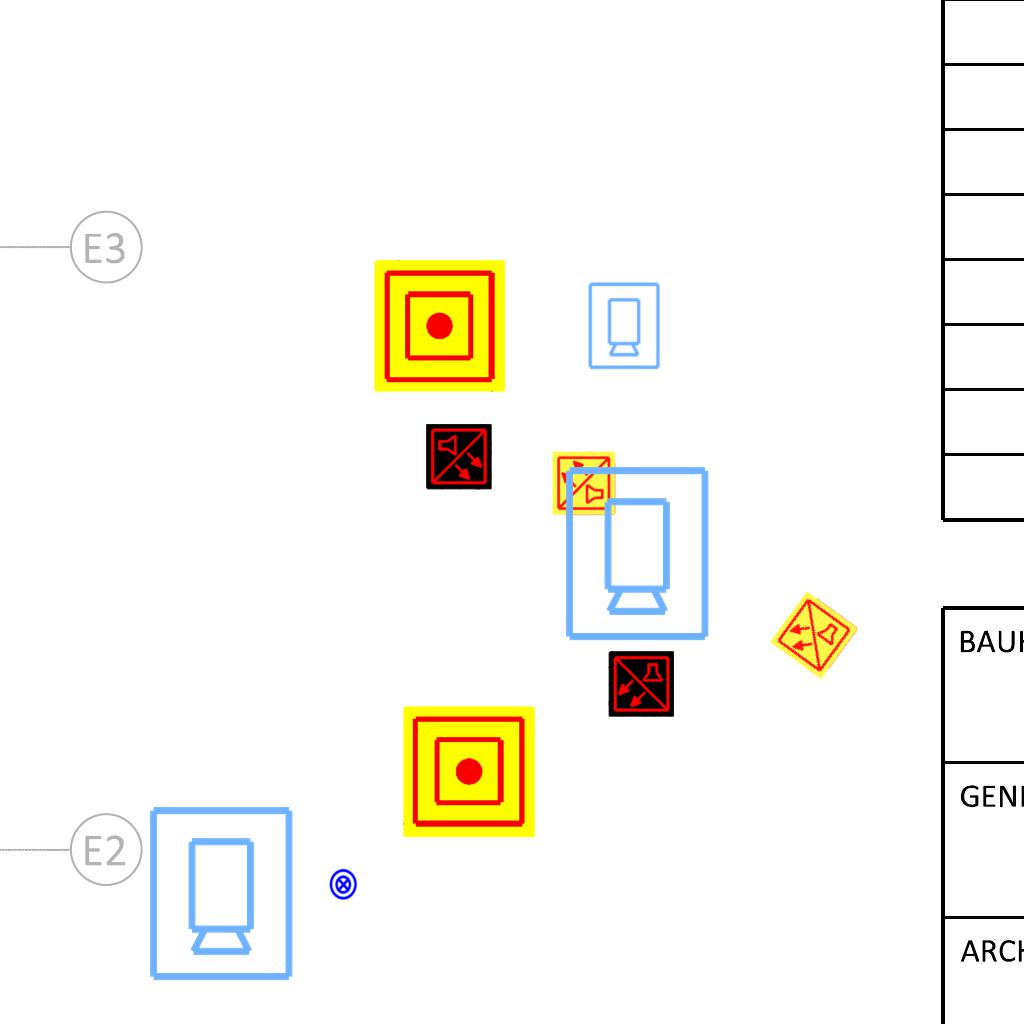KFO_Kamera_mit_Festobjektiv: (143, 802, 297, 984), (559, 462, 713, 644), (585, 280, 662, 371)
NAM-Nichtautomatischer_Melder: (403, 706, 535, 838), (374, 260, 506, 392)
OKW_Multisensormelder_(Kombination_optischer_Rauch-Kahlenmonoxid_Waerme-Melder): (767, 588, 861, 682), (426, 424, 492, 490), (551, 450, 617, 516), (608, 651, 674, 717)
Taster_beleuchtet: (327, 868, 360, 901)
